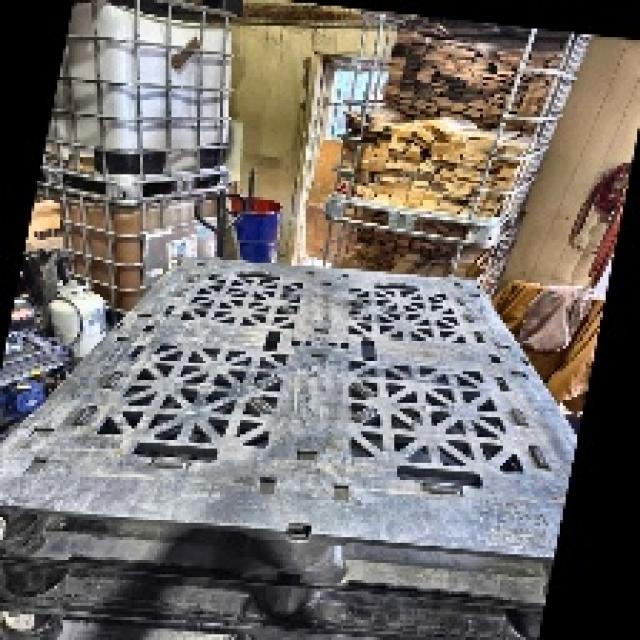igps: (0, 248, 582, 607), (0, 545, 551, 640), (0, 583, 268, 640)
